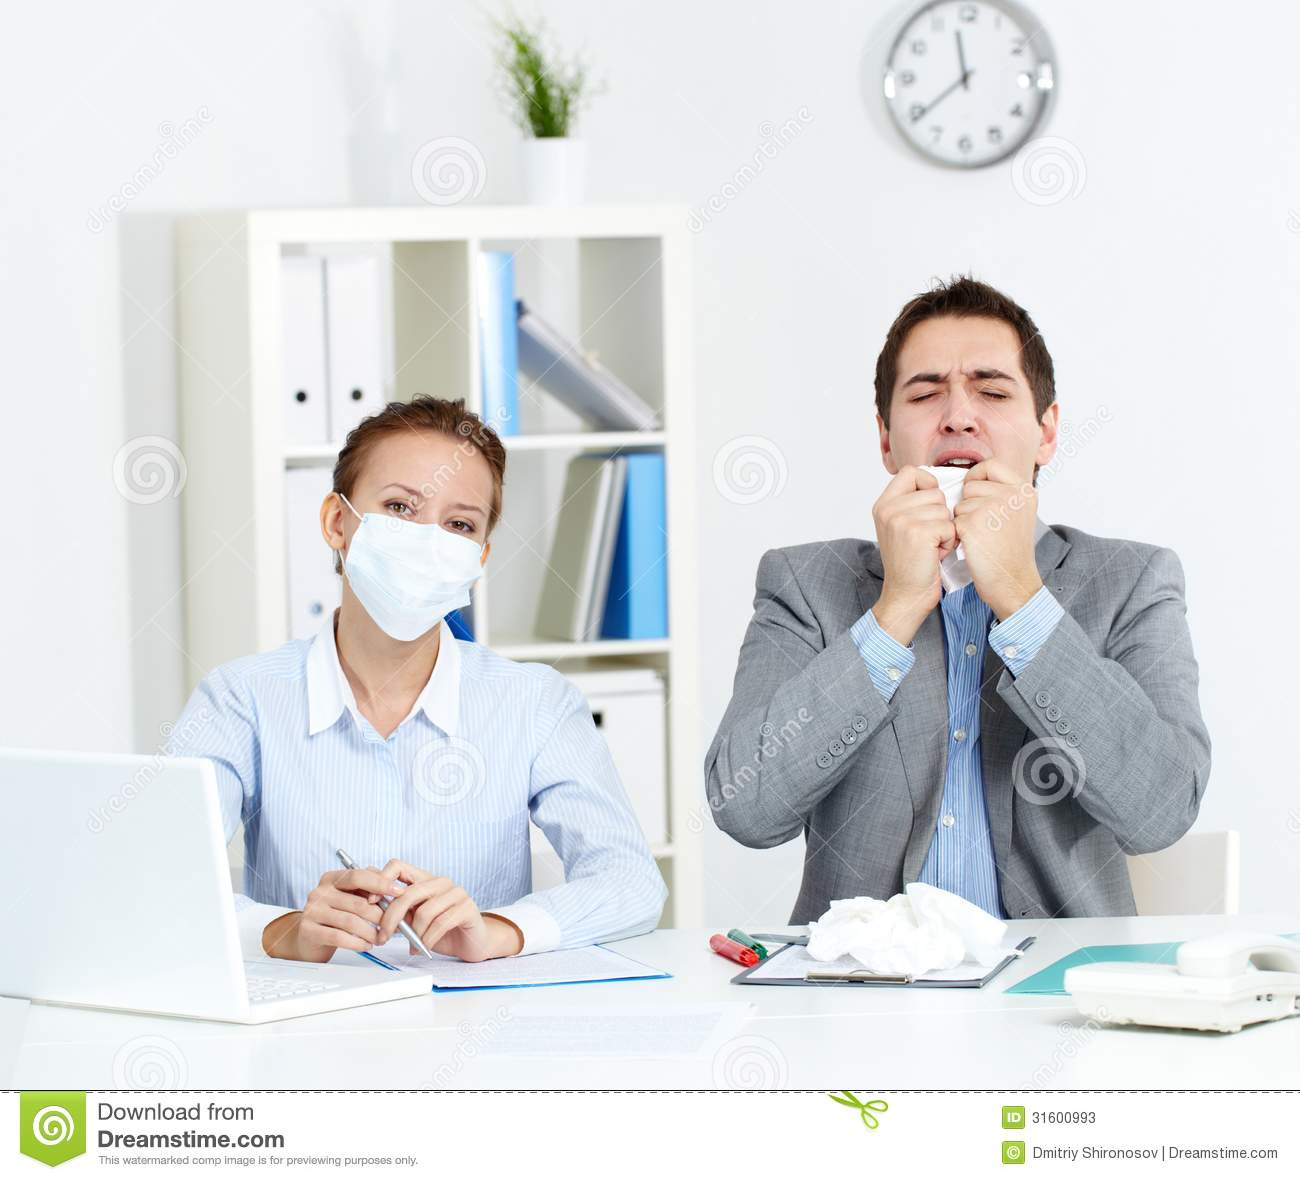mask: (343, 504, 486, 644)
